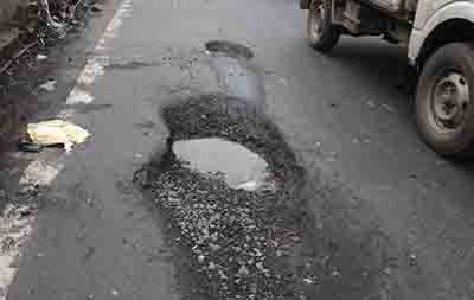pothole: (135, 91, 307, 294), (202, 36, 253, 59)
